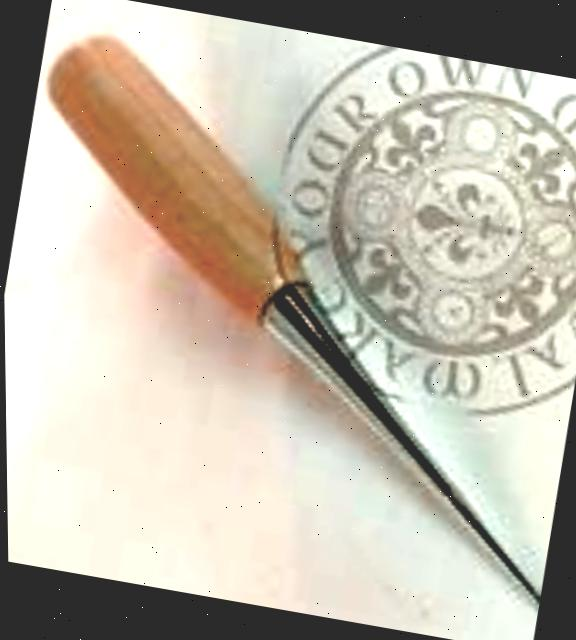ice pick: (0, 21, 576, 610)
